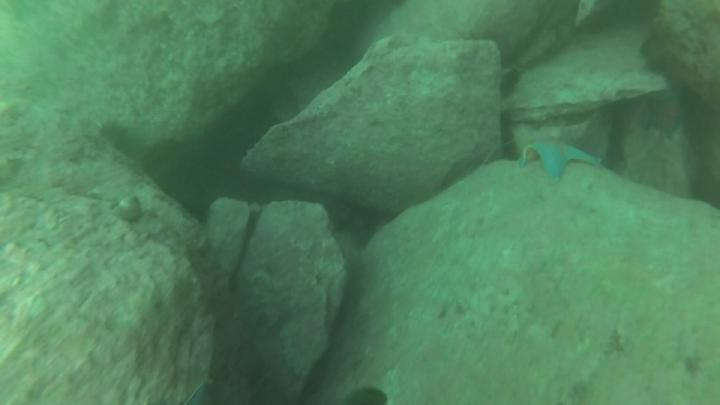starfish: (521, 138, 607, 182), (639, 90, 693, 144)
